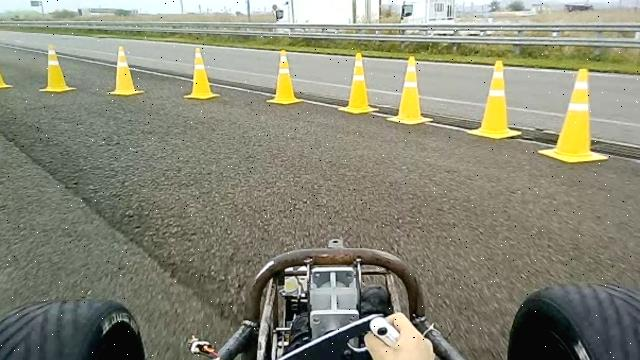yellow cone: (538, 68, 608, 164), (466, 59, 522, 139), (386, 55, 433, 125), (337, 51, 379, 114), (265, 48, 304, 104), (182, 46, 220, 100), (106, 44, 144, 96), (38, 44, 76, 92), (0, 42, 12, 89)
